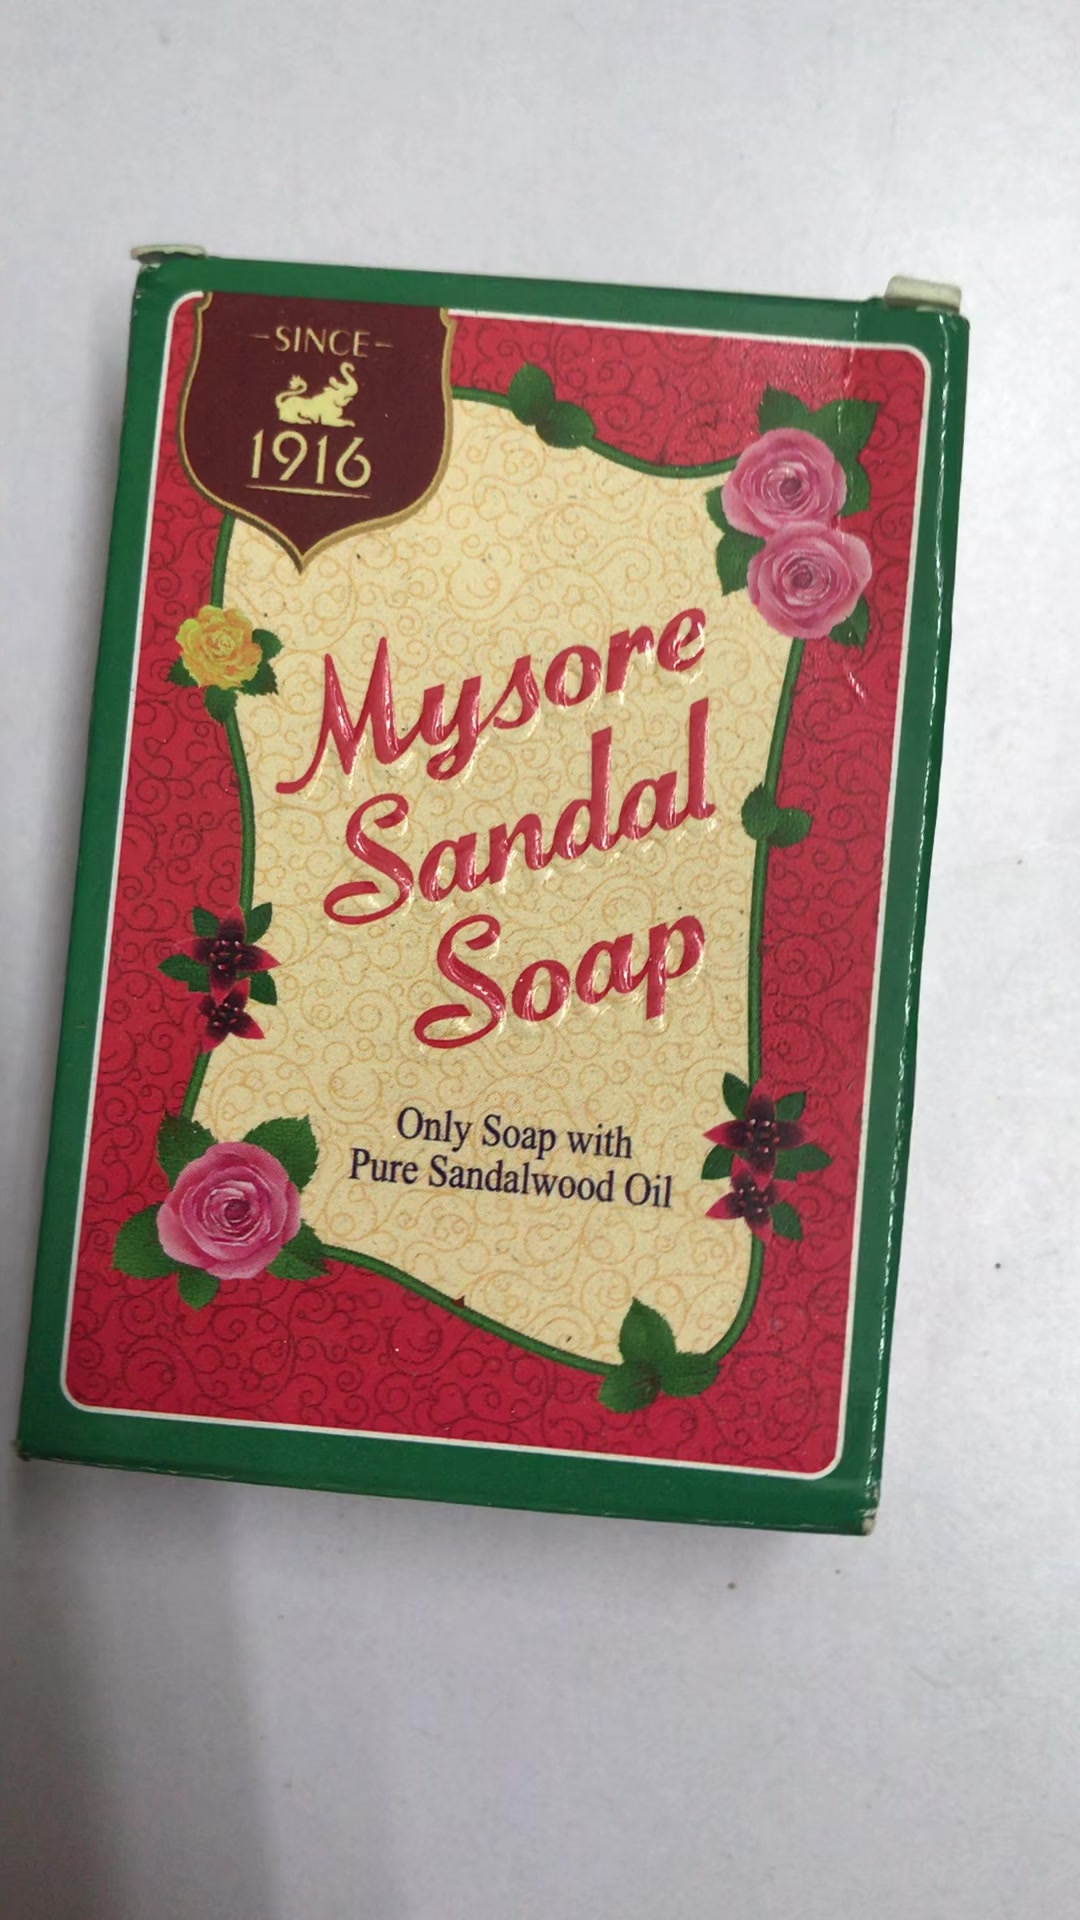mysore sandal soap: (18, 261, 972, 1534)
